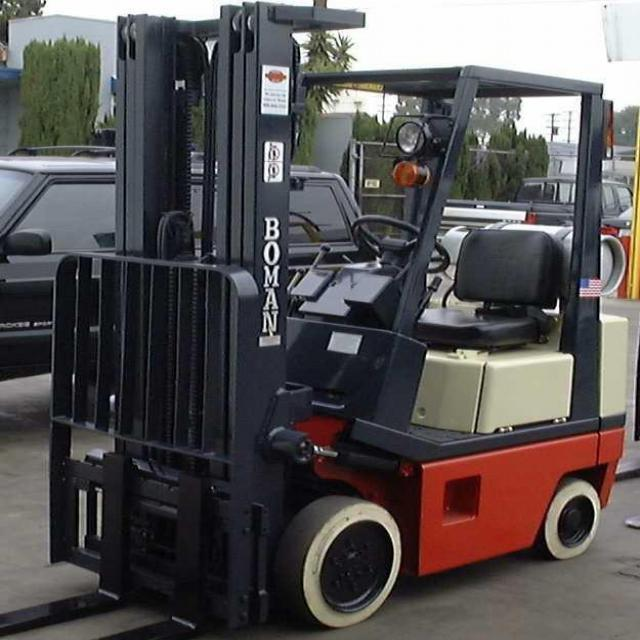forklift: (0, 0, 632, 639)
